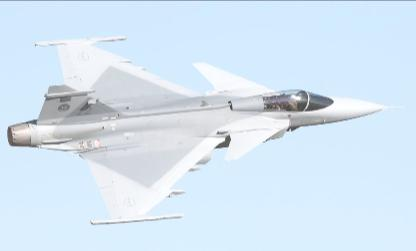JAS39: (6, 35, 406, 224)
